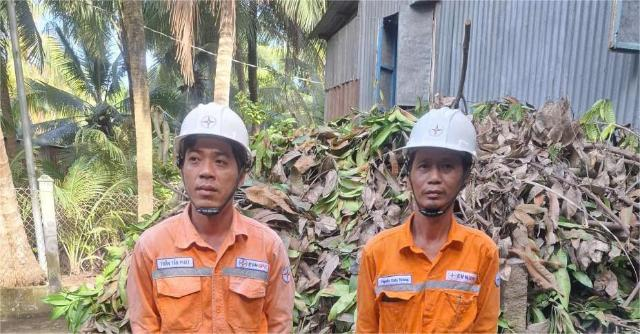helmet: (163, 97, 262, 181), (402, 105, 486, 173)
